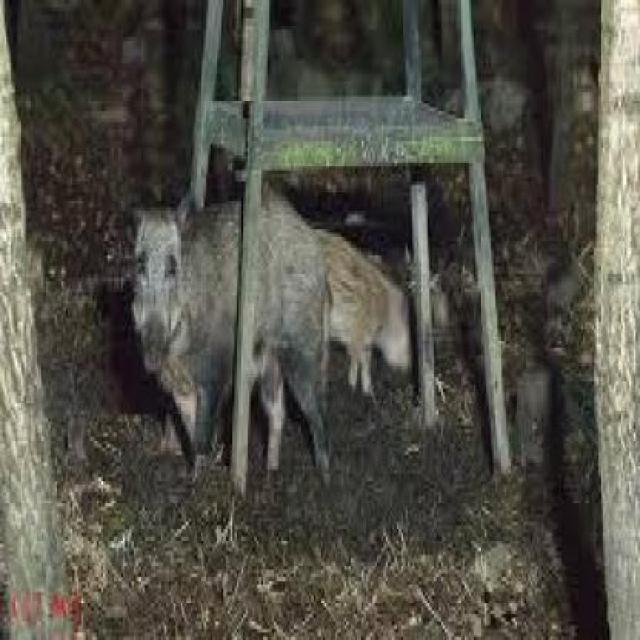wildboar: (122, 182, 333, 496), (285, 220, 413, 414)
